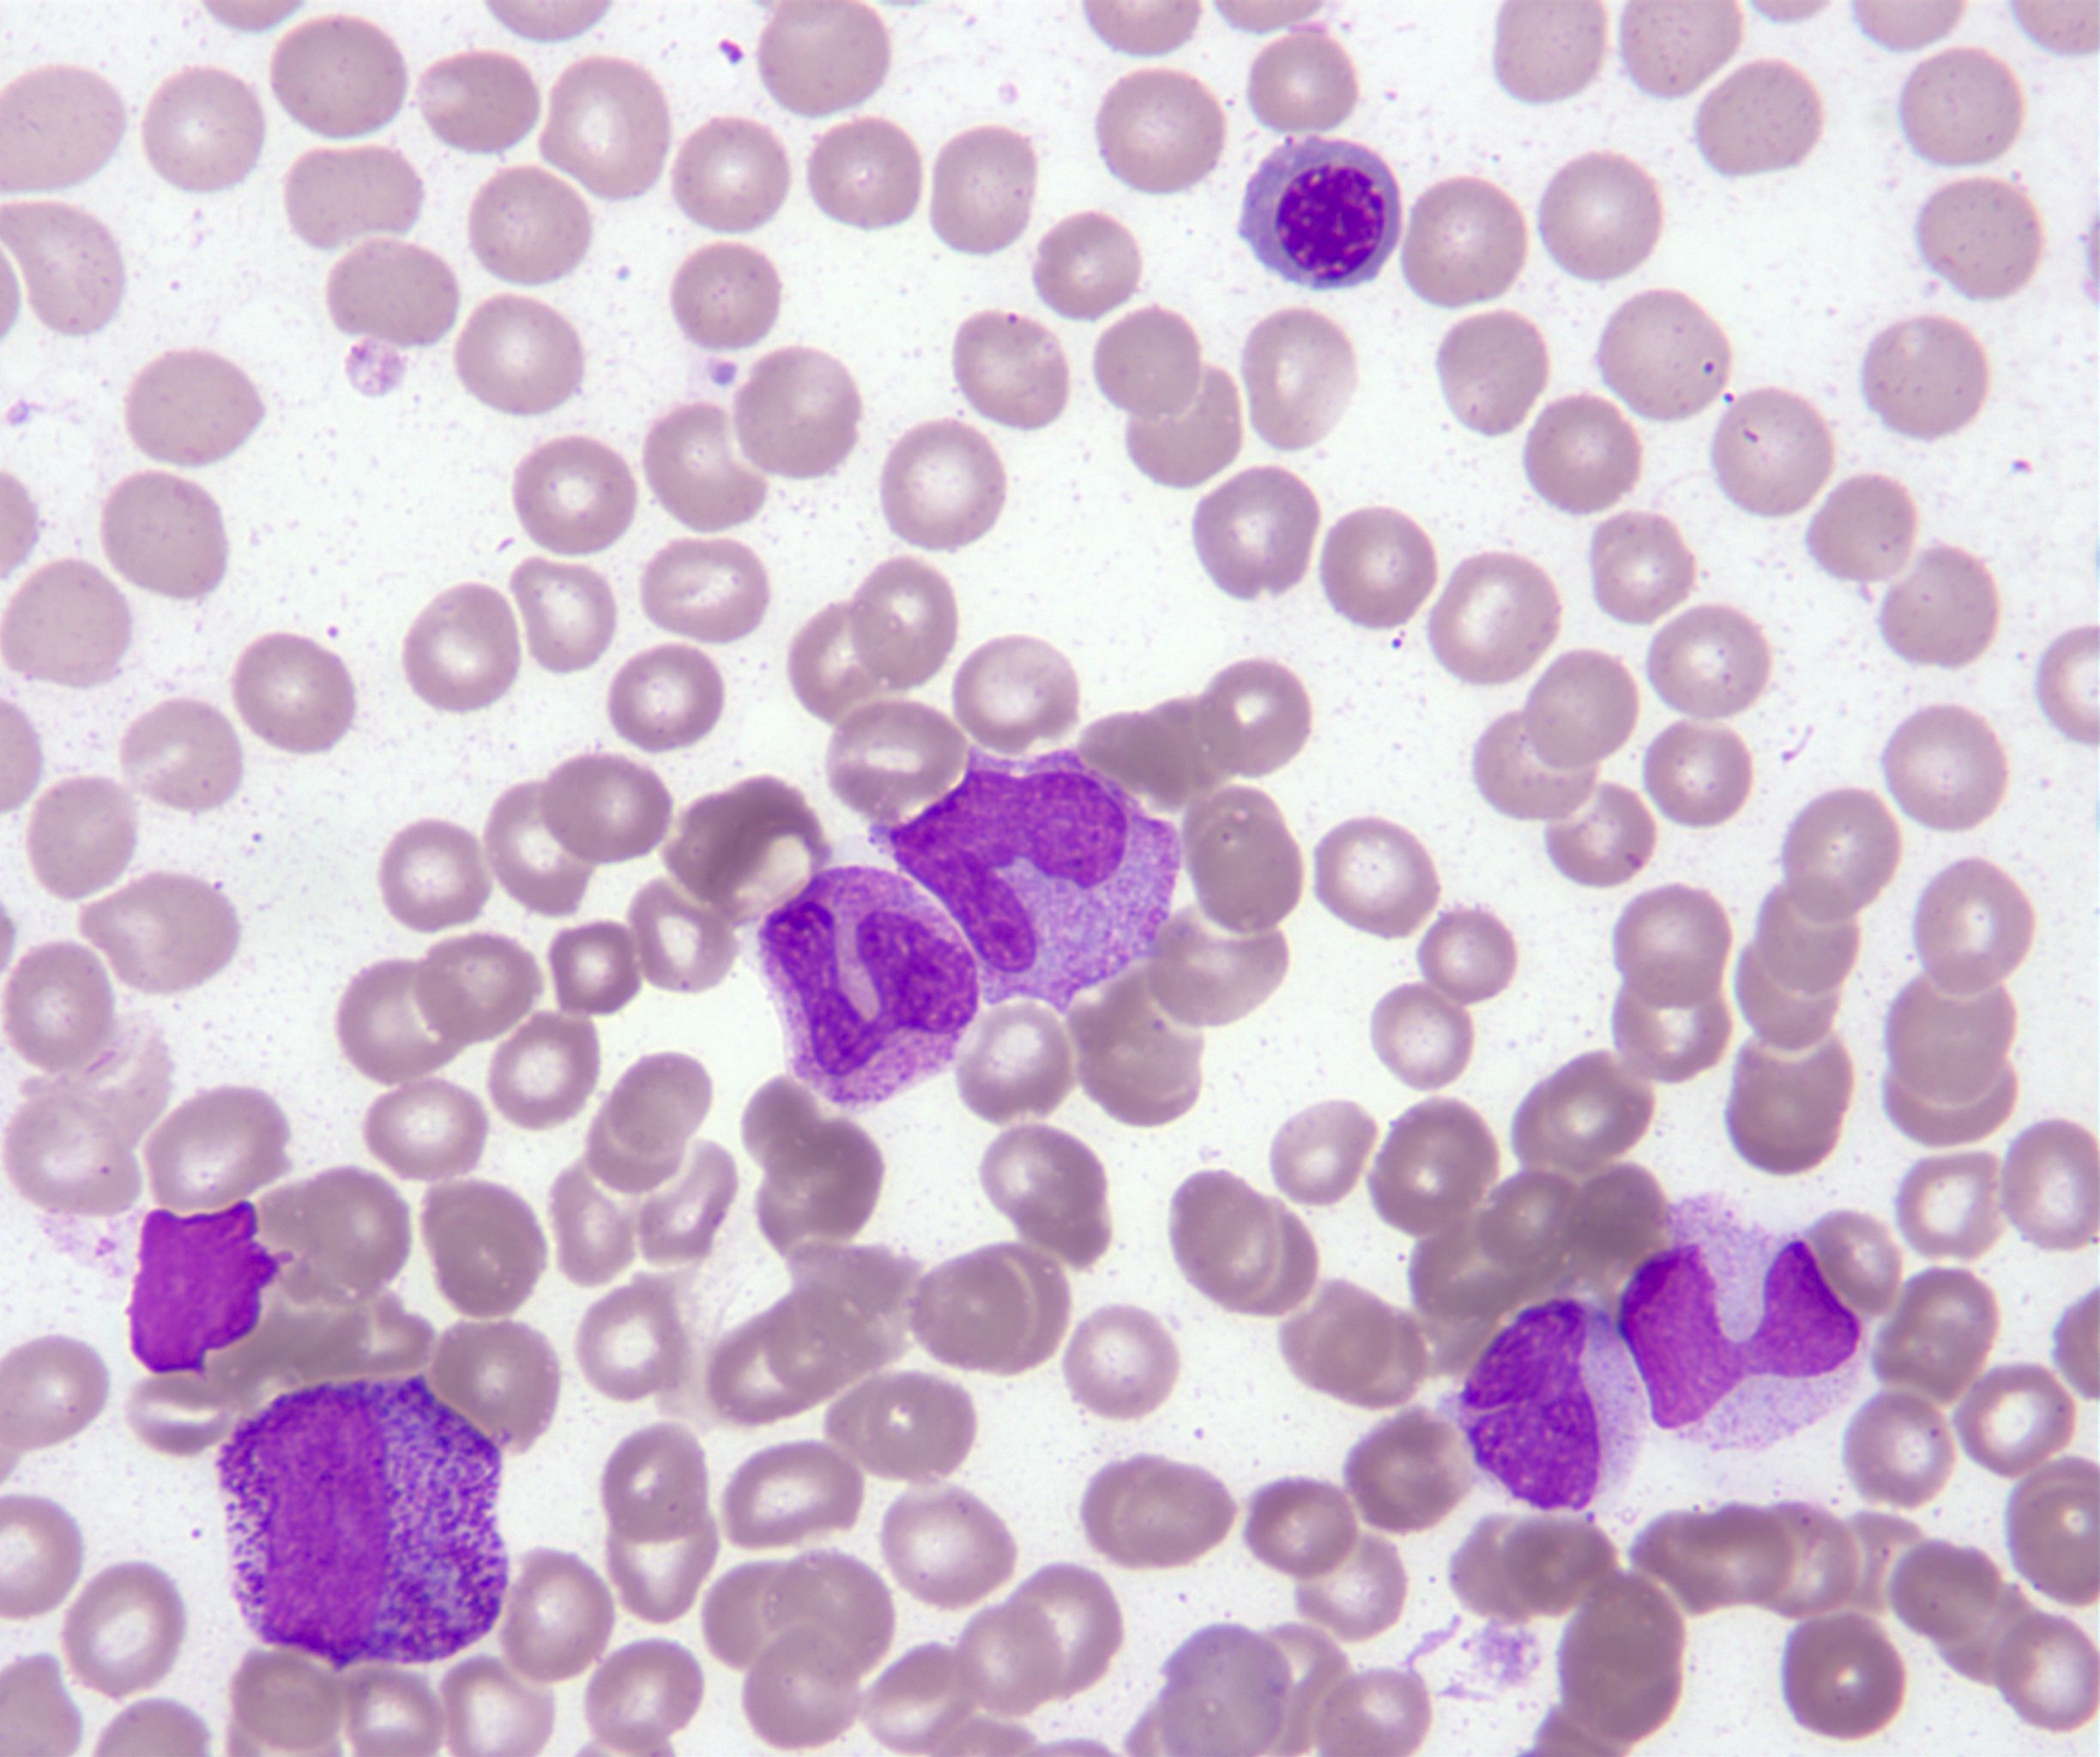23: (1235, 138, 1401, 293)
3: (218, 1373, 508, 1672)
4: (869, 749, 1181, 1015), (1617, 1190, 1863, 1450), (1437, 1298, 1650, 1513)
5: (755, 867, 978, 1111)
x: (131, 1199, 293, 1378)
